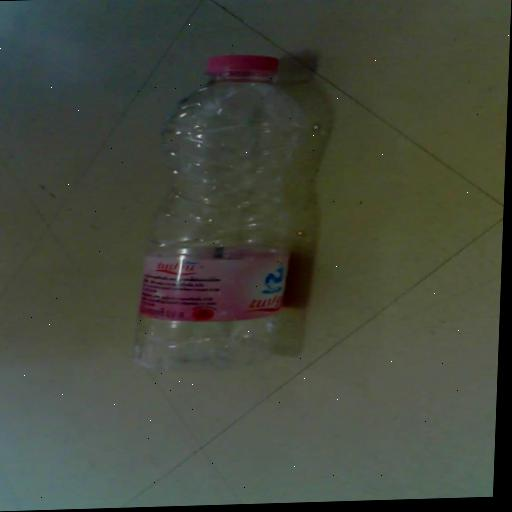bottle: (113, 53, 329, 385)
